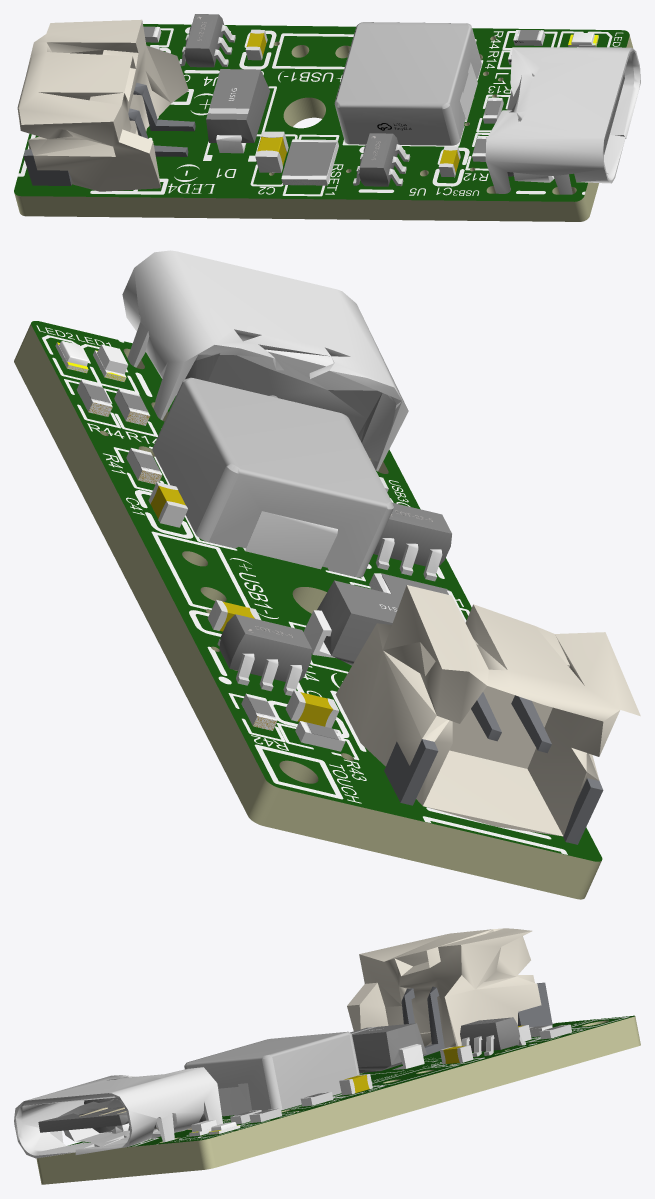
3 views of the same model, one above another, from view 1: azimuth 30°, elevation 25°; view 2: azimuth 150°, elevation 25°; view 3: azimuth 270°, elevation 25° (orthographic). The views are drawn at different scales.
Parts seen in each view (by area): view 1: 103; view 2: 103; view 3: 103.
Boxes of the visible parts, x1,y1,x2,y2 form: 103: [14, 14, 640, 221]; 103: [14, 250, 640, 899]; 103: [14, 928, 640, 1184].
Size of the model in its own units: 7.55 by 2.6 by 7.78.
